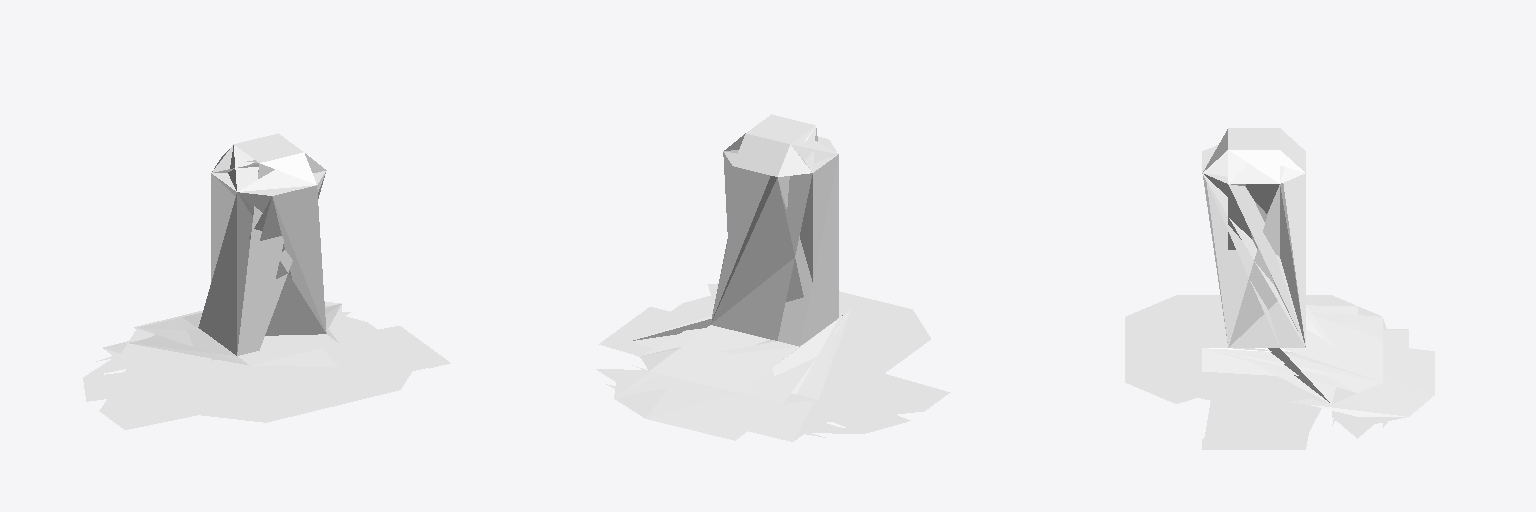
Rendered from PowerModuleJunk2.obj.
3 views of the same model, side by side, from view 1: azimuth 30°, elevation 25°; view 2: azimuth 150°, elevation 25°; view 3: azimuth 270°, elevation 25° (orthographic).
Bounding box in the file's own units: 14 × 10 × 12.